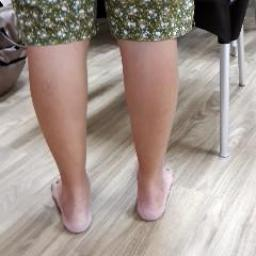Back View -Both Feet-: (24, 134, 202, 244)
